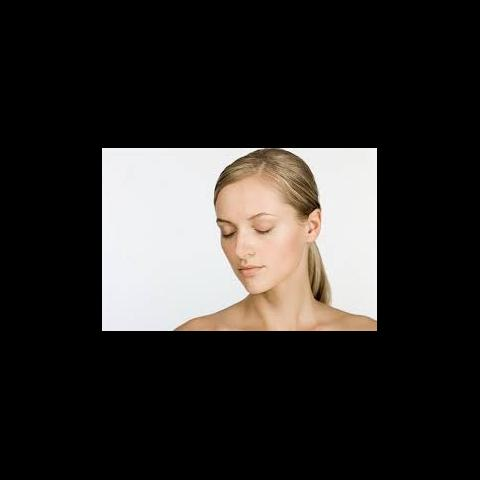closed: (210, 209, 280, 241)
